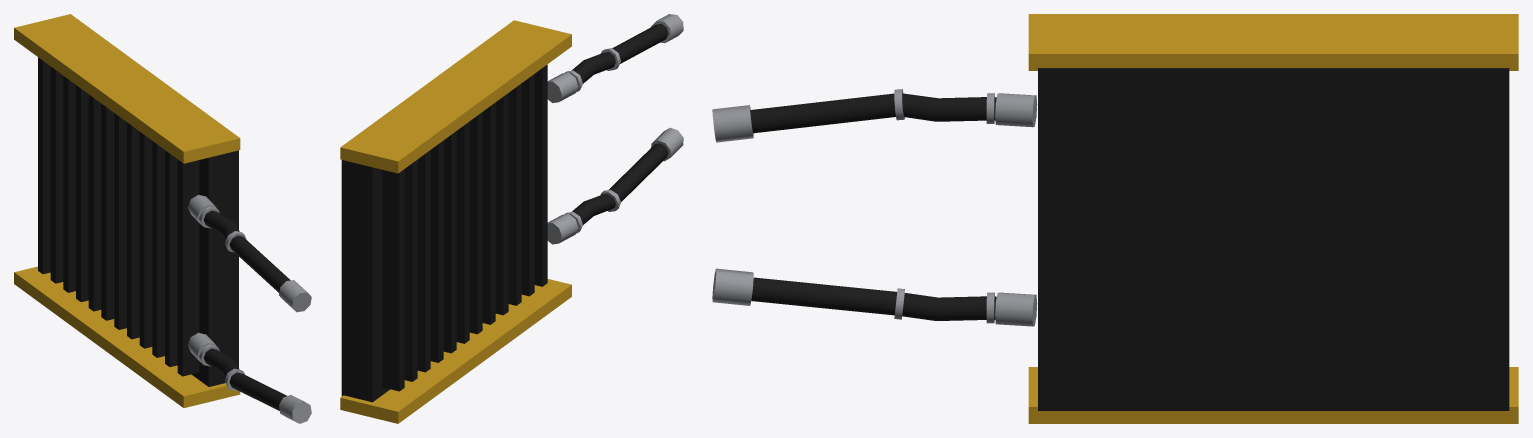
3 views of the same model, side by side, from view 1: azimuth 30°, elevation 25°; view 2: azimuth 150°, elevation 25°; view 3: azimuth 270°, elevation 25° (orthographic). The views are drawn at different scales.
Parts seen in each view (by area): view 1: kt1_hx; view 2: kt1_hx; view 3: kt1_hx.
Part boxes in pixels (<box>): kt1_hx: <box>14,14,311,423</box>; kt1_hx: <box>340,14,683,423</box>; kt1_hx: <box>712,14,1518,423</box>.
Bounding box in the file's own units: 0.3225 × 1.3 × 2.57.
